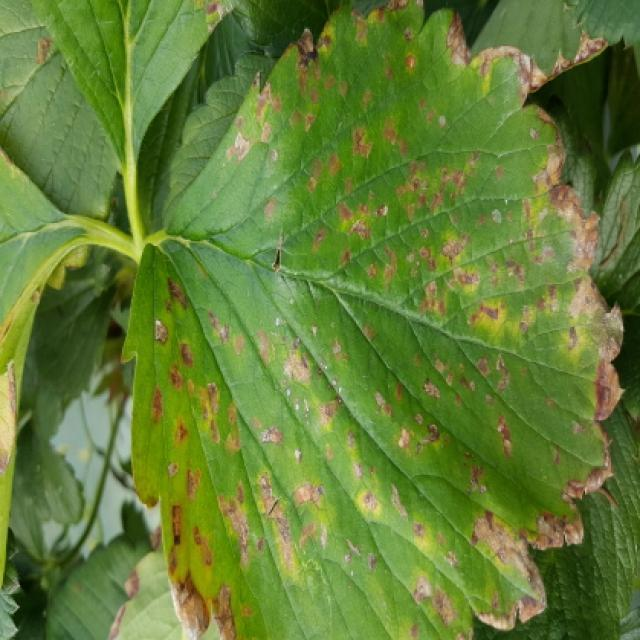Angular Leafspot: (120, 0, 631, 638)
